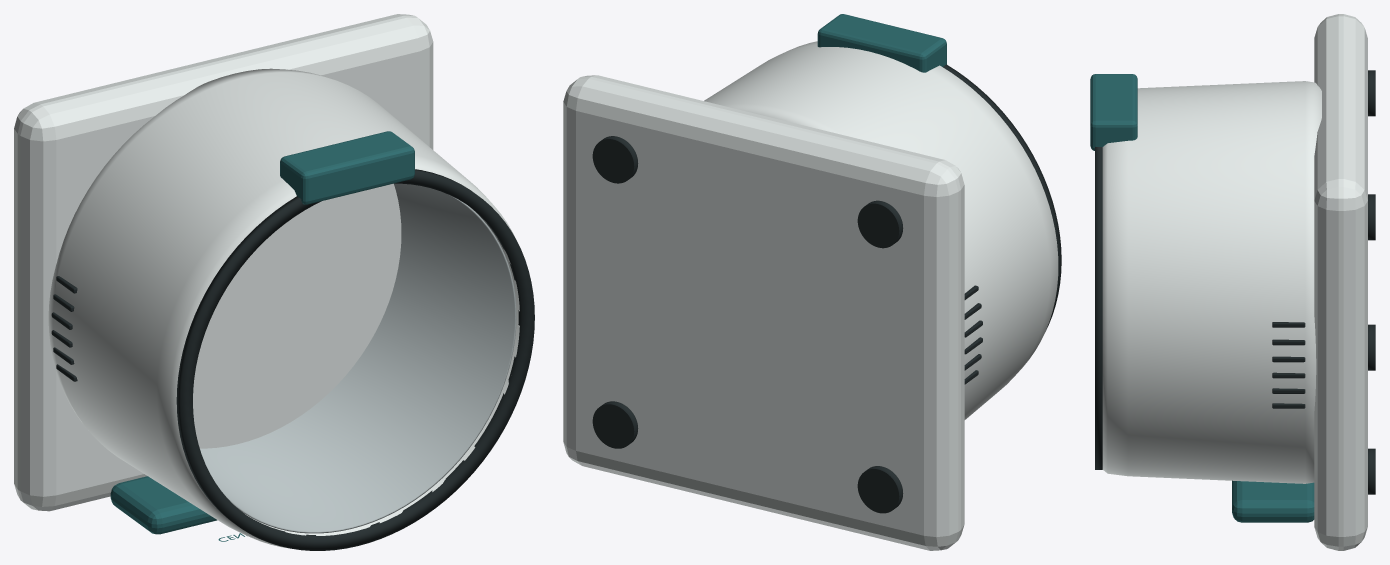
The model's file is centrifuge_base.glb.
3 renders of one model, left to right at view 1: azimuth 30°, elevation 25°; view 2: azimuth 150°, elevation 25°; view 3: azimuth 270°, elevation 25°, orthographic. The views are drawn at different scales.
Visible parts, largest first — view 1: Centrifuge enamel chassis, Centrifuge chamber shell, Centrifuge stainless bowl, Centrifuge rim seal, Centrifuge hinge pedestal, Centrifuge control bezel; view 2: Centrifuge enamel chassis, Centrifuge chamber shell, Centrifuge hinge pedestal, Centrifuge isolation foot.002, Centrifuge isolation foot, Centrifuge isolation foot.003, Centrifuge isolation foot.001, Centrifuge rim seal; view 3: Centrifuge chamber shell, Centrifuge enamel chassis, Centrifuge control bezel, Centrifuge hinge pedestal, Centrifuge rim seal, Centrifuge isolation foot.001, Centrifuge isolation foot.002, Centrifuge isolation foot.003, Centrifuge isolation foot.
Part boxes in pixels (bbox=[...]): Centrifuge enamel chassis: bbox=[14, 14, 433, 511]; Centrifuge chamber shell: bbox=[48, 68, 519, 547]; Centrifuge stainless bowl: bbox=[200, 183, 516, 533]; Centrifuge rim seal: bbox=[176, 169, 534, 550]; Centrifuge hinge pedestal: bbox=[280, 131, 414, 204]; Centrifuge control bezel: bbox=[110, 476, 217, 534]; Centrifuge enamel chassis: bbox=[563, 75, 964, 550]; Centrifuge chamber shell: bbox=[704, 41, 1058, 419]; Centrifuge hinge pedestal: bbox=[817, 14, 946, 72]; Centrifuge isolation foot.002: bbox=[857, 200, 903, 248]; Centrifuge isolation foot: bbox=[592, 136, 638, 183]; Centrifuge isolation foot.003: bbox=[592, 401, 638, 448]; Centrifuge isolation foot.001: bbox=[857, 466, 903, 513]; Centrifuge rim seal: bbox=[943, 64, 1061, 331]; Centrifuge chamber shell: bbox=[1102, 81, 1321, 483]; Centrifuge enamel chassis: bbox=[1314, 14, 1367, 550]; Centrifuge control bezel: bbox=[1232, 480, 1314, 522]; Centrifuge hinge pedestal: bbox=[1090, 74, 1137, 150]; Centrifuge rim seal: bbox=[1095, 147, 1102, 469]; Centrifuge isolation foot.001: bbox=[1368, 324, 1375, 370]; Centrifuge isolation foot.002: bbox=[1368, 70, 1375, 116]; Centrifuge isolation foot.003: bbox=[1368, 448, 1375, 494]; Centrifuge isolation foot: bbox=[1368, 194, 1375, 240].
Bounding box in the file's own units: 0.34 × 0.326 × 0.2235.
